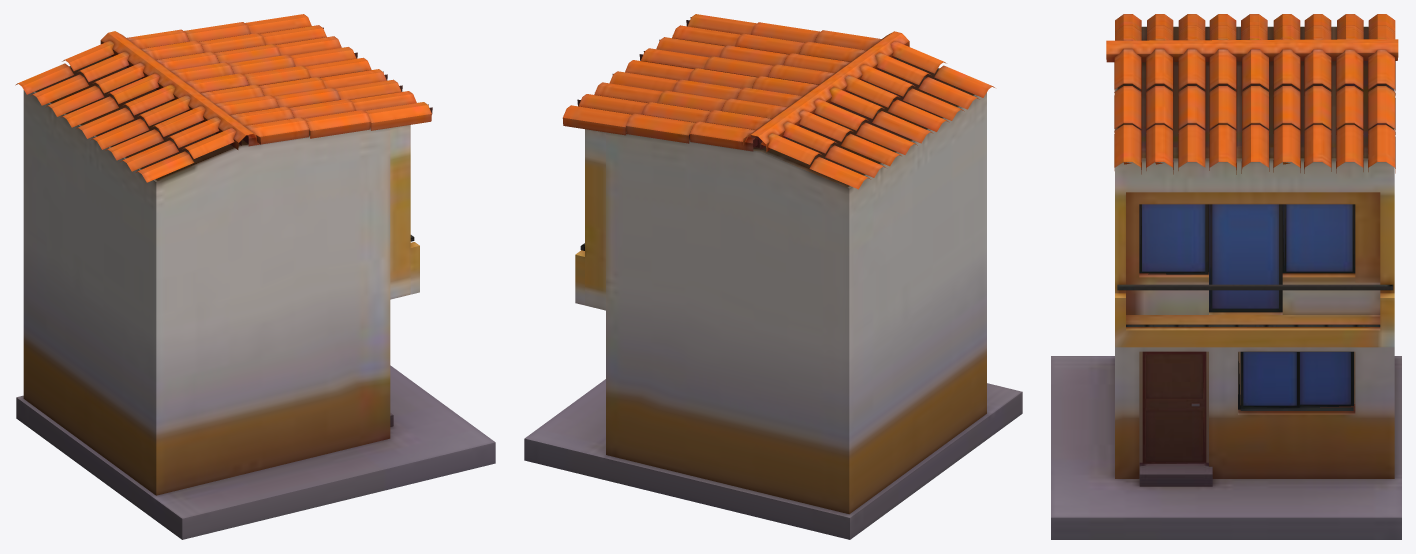
The model's file is casa-estrato-4.glb.
3 renders of one model, left to right at view 1: azimuth 30°, elevation 25°; view 2: azimuth 150°, elevation 25°; view 3: azimuth 270°, elevation 25°, orthographic. The views are drawn at different scales.
Visible parts, largest first — view 1: Beige 4, Tejas 4, Gris 4; view 2: Beige 4, Tejas 4, Gris 4; view 3: Beige 4, Tejas 4, Gris 4, Negro 4, Madera 4, Balcon 4.
Boxes of the visible parts, x1,y1,x2,y2 form: Beige 4: (23, 56, 419, 495); Tejas 4: (15, 14, 431, 182); Gris 4: (16, 365, 495, 539); Beige 4: (575, 58, 986, 514); Tejas 4: (562, 14, 994, 189); Gris 4: (524, 379, 1022, 539); Beige 4: (1115, 26, 1394, 478); Tejas 4: (1106, 14, 1398, 174); Gris 4: (1051, 356, 1401, 539); Negro 4: (1139, 204, 1355, 410); Madera 4: (1142, 351, 1206, 463); Balcon 4: (1117, 284, 1393, 326).
Size of the model in its own units: 4.56 by 4.97 by 4.1.
8 materials, 8 textured.
